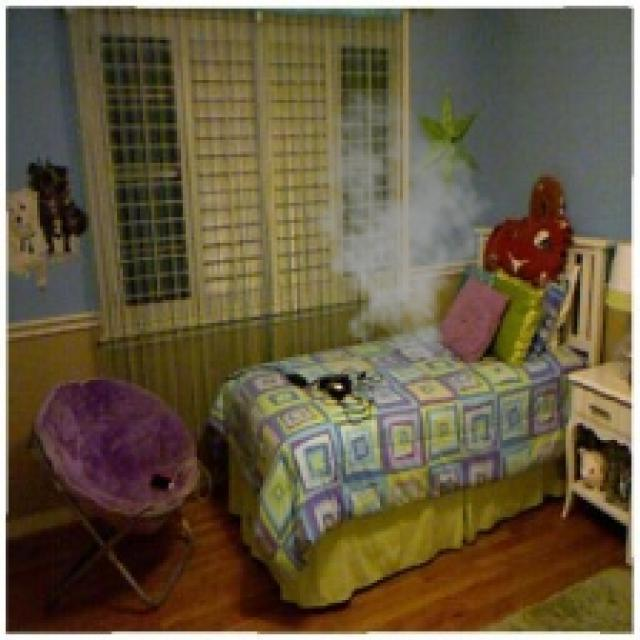Smoke: (294, 86, 494, 363)
